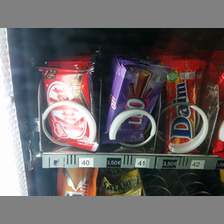chocolate: (36, 64, 99, 151), (105, 61, 166, 148), (161, 59, 206, 148)
